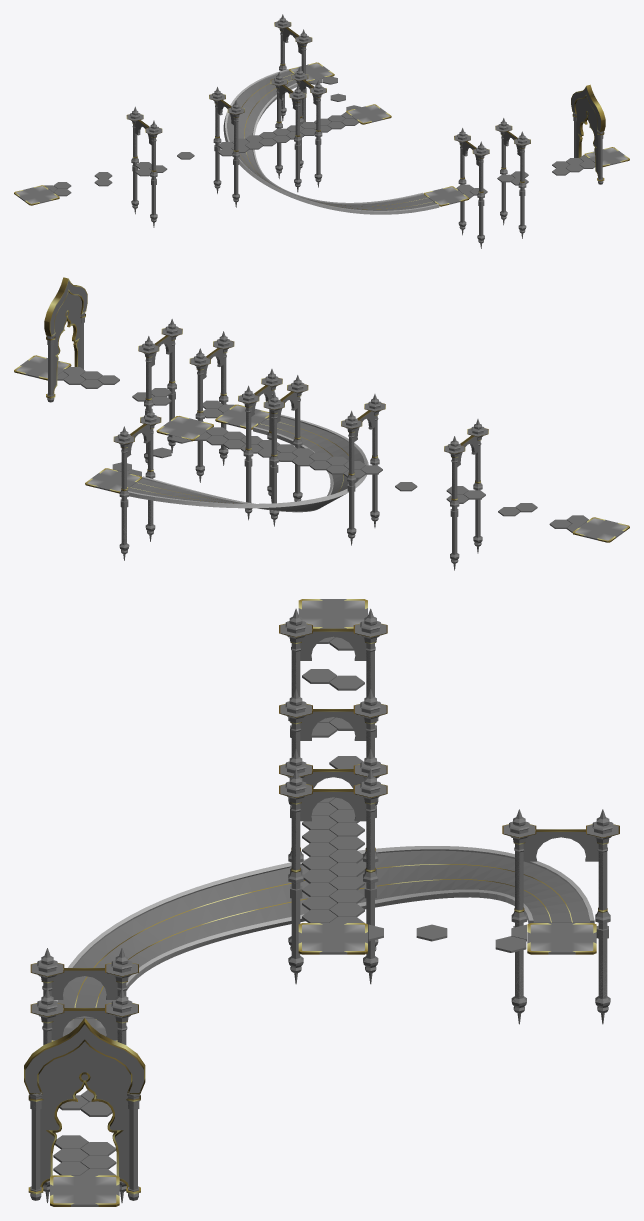
Rendered from NPSpace2.gltf.
3 renders of one model, top to bottom at view 1: azimuth 30°, elevation 25°; view 2: azimuth 150°, elevation 25°; view 3: azimuth 270°, elevation 25°, orthographic. The views are drawn at different scales.
Parts seen in each view (by area): view 1: stg070_k21_Mesh_0000, stg070_k21_Mesh_0014, stg070_k21_Mesh_0003, stg070_o21_Mesh_0000, stg070_k21_Mesh_0025, stg070_k21_Mesh_0019, stg070_k21_Mesh_0023, stg070_k21_Mesh_0010, stg070_k21_Mesh_0047, stg070_k21_Mesh_0034, stg070_k21_Mesh_0042, stg070_k21_Mesh_0031 (+2 smaller); view 2: stg070_k21_Mesh_0014, stg070_k21_Mesh_0000, stg070_o21_Mesh_0000, stg070_k21_Mesh_0019, stg070_k21_Mesh_0025, stg070_k21_Mesh_0003, stg070_k21_Mesh_0023, stg070_k21_Mesh_0047, stg070_k21_Mesh_0034, stg070_k21_Mesh_0042, stg070_k21_Mesh_0031, stg070_k21_Mesh_0010 (+3 smaller); view 3: stg070_k21_Mesh_0000, stg070_k21_Mesh_0023, stg070_k21_Mesh_0003, stg070_k21_Mesh_0014, stg070_o21_Mesh_0000, stg070_k21_Mesh_0034, stg070_k21_Mesh_0025, stg070_k21_Mesh_0019, stg070_k21_Mesh_0042, stg070_k21_Mesh_0047, stg070_k21_Mesh_0018, stg070_k21_Mesh_0009 (+3 smaller).
Part boxes in pixels (x1=…): stg070_k21_Mesh_0000: x1=44, y1=76, x2=595, y2=198; stg070_k21_Mesh_0014: x1=131, y1=35, x2=602, y2=236; stg070_k21_Mesh_0003: x1=21, y1=65, x2=622, y2=209; stg070_o21_Mesh_0000: x1=14, y1=21, x2=629, y2=209; stg070_k21_Mesh_0025: x1=18, y1=64, x2=624, y2=214; stg070_k21_Mesh_0019: x1=130, y1=20, x2=603, y2=240; stg070_k21_Mesh_0023: x1=227, y1=71, x2=436, y2=210; stg070_k21_Mesh_0010: x1=132, y1=24, x2=603, y2=240; stg070_k21_Mesh_0047: x1=16, y1=63, x2=627, y2=204; stg070_k21_Mesh_0034: x1=135, y1=28, x2=520, y2=165; stg070_k21_Mesh_0042: x1=127, y1=22, x2=598, y2=156; stg070_k21_Mesh_0031: x1=132, y1=14, x2=525, y2=248; stg070_k21_Mesh_0014: x1=48, y1=323, x2=482, y2=554; stg070_k21_Mesh_0000: x1=57, y1=367, x2=588, y2=532; stg070_o21_Mesh_0000: x1=14, y1=277, x2=629, y2=542; stg070_k21_Mesh_0019: x1=46, y1=313, x2=484, y2=560; stg070_k21_Mesh_0025: x1=20, y1=358, x2=624, y2=540; stg070_k21_Mesh_0003: x1=22, y1=359, x2=621, y2=537; stg070_k21_Mesh_0023: x1=127, y1=417, x2=364, y2=503; stg070_k21_Mesh_0047: x1=16, y1=356, x2=627, y2=540; stg070_k21_Mesh_0034: x1=127, y1=336, x2=477, y2=466; stg070_k21_Mesh_0042: x1=53, y1=312, x2=487, y2=454; stg070_k21_Mesh_0031: x1=120, y1=319, x2=481, y2=570; stg070_k21_Mesh_0010: x1=47, y1=314, x2=481, y2=559; stg070_k21_Mesh_0000: x1=53, y1=636, x2=526, y2=1175; stg070_k21_Mesh_0023: x1=58, y1=850, x2=589, y2=1007; stg070_k21_Mesh_0003: x1=53, y1=600, x2=593, y2=1203; stg070_k21_Mesh_0014: x1=31, y1=651, x2=610, y2=1189; stg070_o21_Mesh_0000: x1=24, y1=599, x2=619, y2=1206; stg070_k21_Mesh_0034: x1=51, y1=631, x2=598, y2=1040; stg070_k21_Mesh_0025: x1=50, y1=599, x2=596, y2=1206; stg070_k21_Mesh_0019: x1=29, y1=621, x2=613, y2=1200; stg070_k21_Mesh_0042: x1=29, y1=624, x2=618, y2=1095; stg070_k21_Mesh_0047: x1=53, y1=600, x2=593, y2=1203; stg070_k21_Mesh_0018: x1=38, y1=1041, x2=130, y2=1092; stg070_k21_Mesh_0009: x1=25, y1=1024, x2=143, y2=1127.
Bounding box in the file's own units: 280 × 73.4 × 134.
